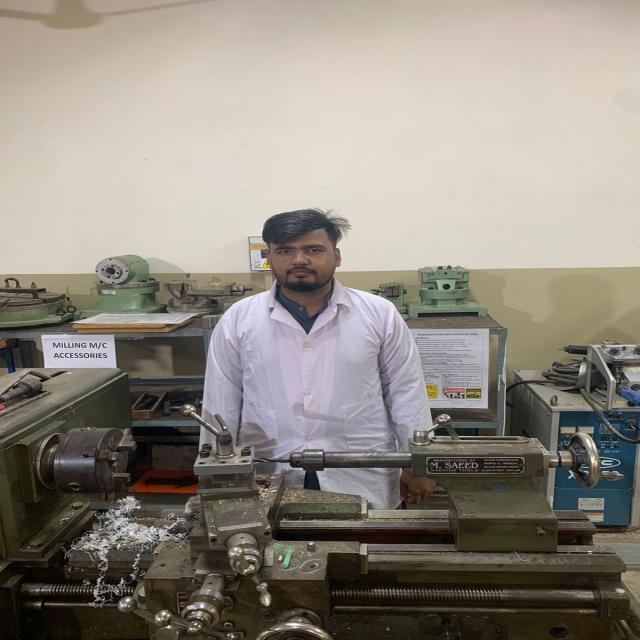labcoat: (201, 277, 441, 531)
